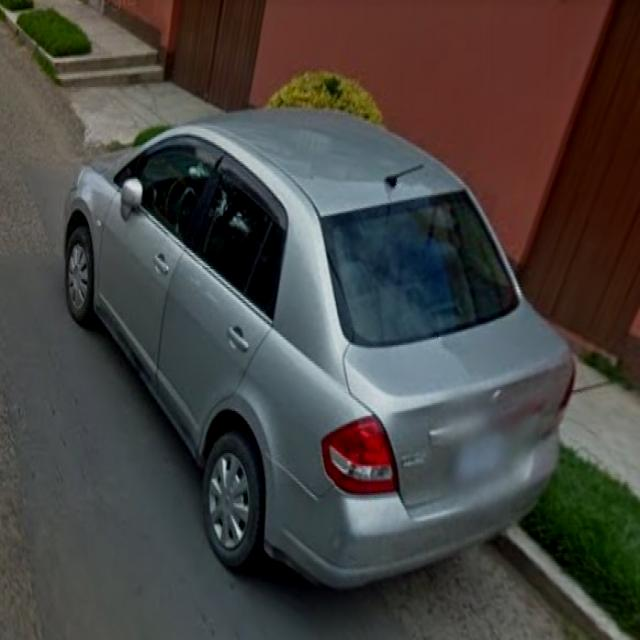car: (42, 100, 580, 587)
